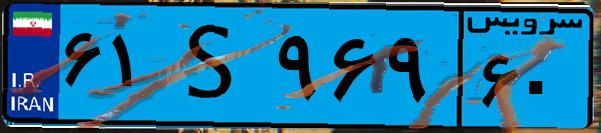0: (525, 38, 570, 115)
1: (110, 28, 158, 98)
6: (330, 28, 385, 110), (57, 26, 110, 100), (475, 38, 525, 113)
9: (270, 28, 330, 110), (385, 28, 445, 110)
S: (158, 12, 270, 120)
